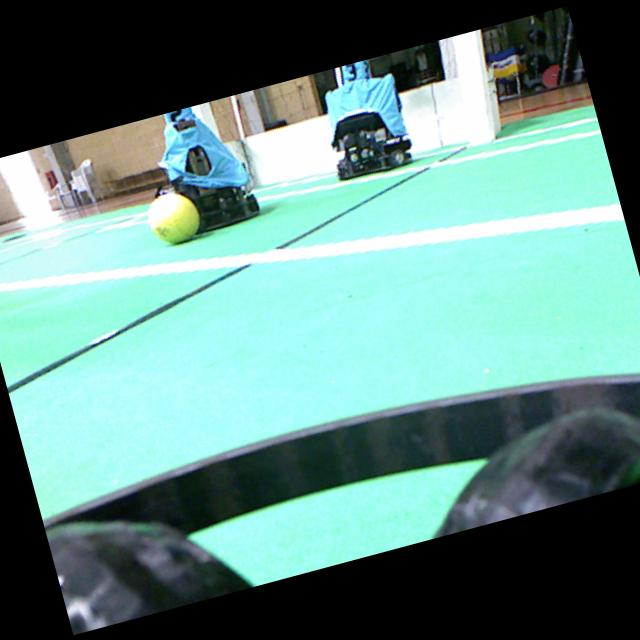ball: (147, 192, 199, 242)
goal: (451, 29, 499, 144)
